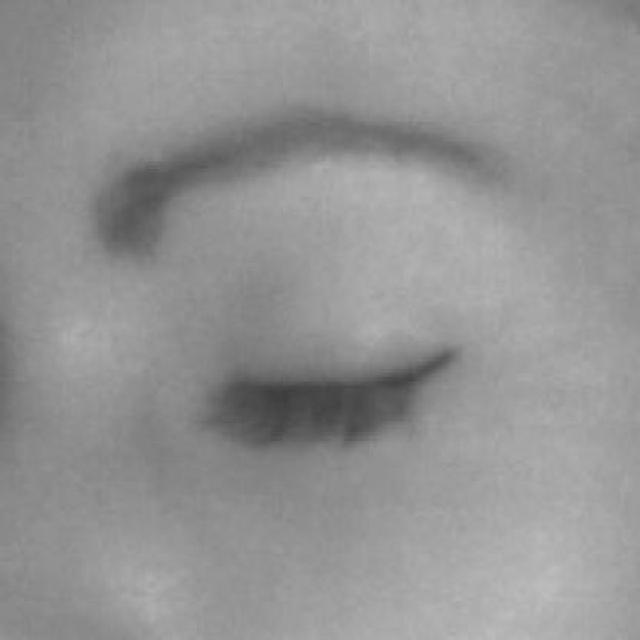drowsy: (214, 280, 457, 552)
